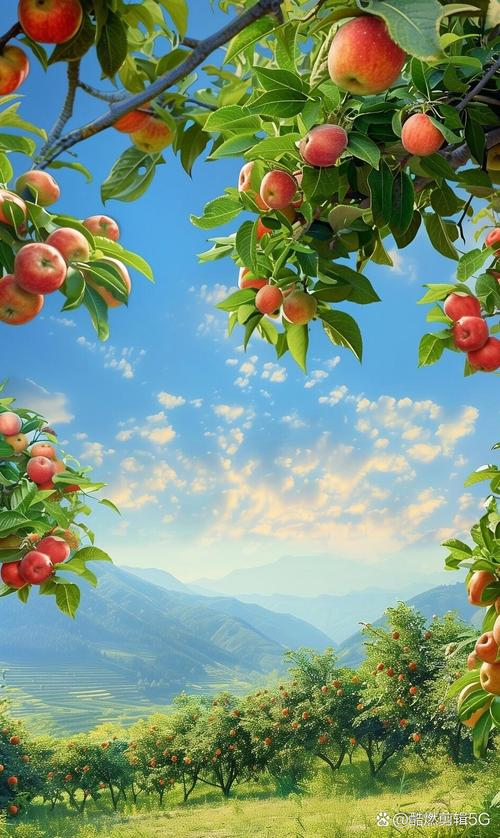ripe: (15, 2, 98, 45), (13, 233, 71, 291), (295, 118, 353, 165), (0, 274, 49, 327), (400, 107, 449, 160), (436, 284, 479, 325), (451, 312, 490, 353), (259, 165, 297, 207), (38, 528, 73, 571), (17, 547, 53, 581), (468, 333, 500, 370), (250, 276, 282, 312), (24, 455, 53, 485), (0, 560, 26, 590), (30, 438, 58, 462)
unripe: (319, 11, 425, 98), (126, 100, 184, 160), (282, 286, 323, 329), (0, 410, 24, 441)
